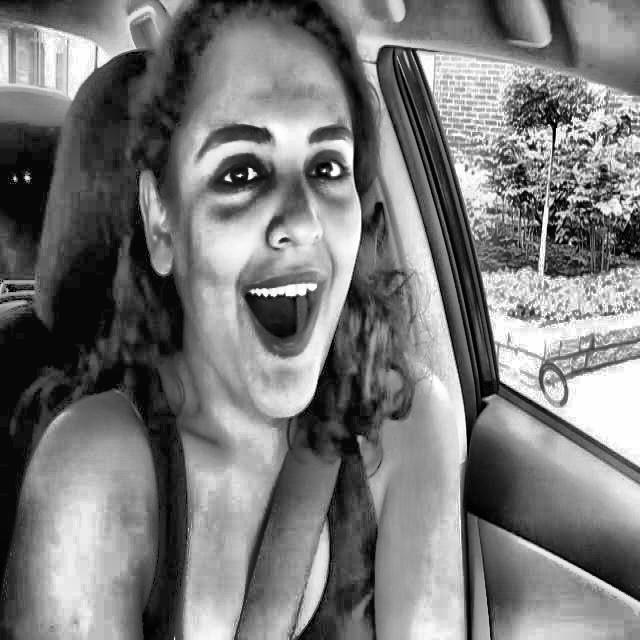open_eyes: (193, 149, 281, 207), (294, 145, 360, 197)
open_mouth: (219, 262, 340, 377)
